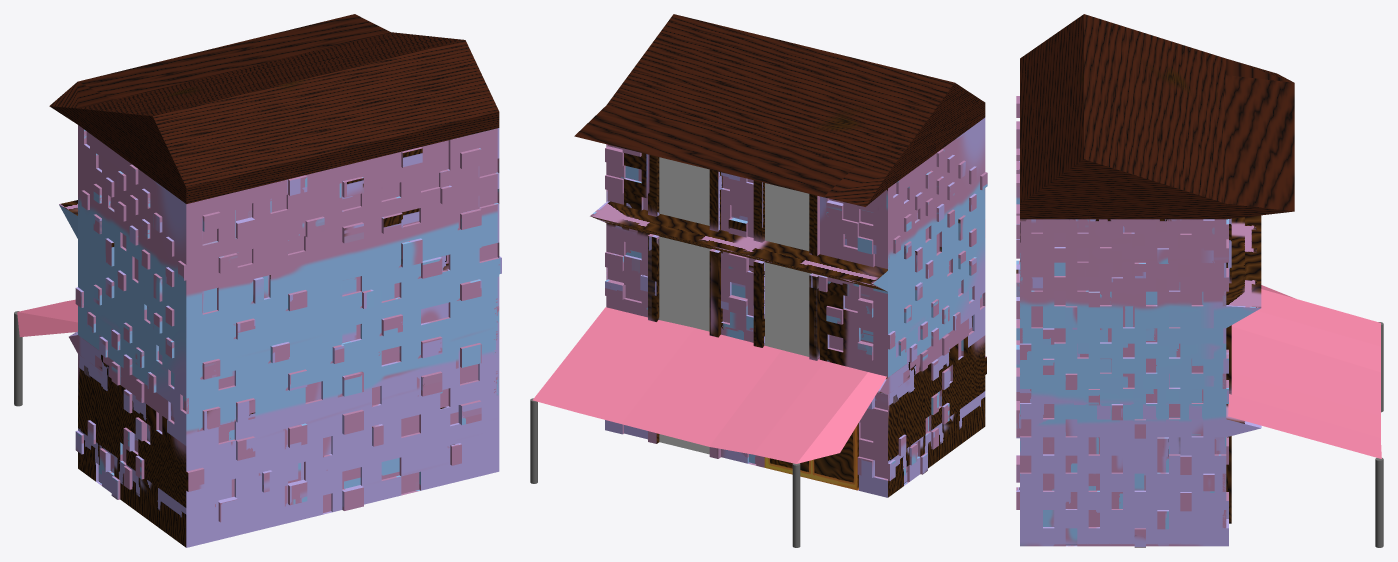
File: 3StoryHome.fbx
3 views of the same model, side by side, from view 1: azimuth 30°, elevation 25°; view 2: azimuth 150°, elevation 25°; view 3: azimuth 270°, elevation 25° (orthographic). The views are drawn at different scales.
Visible parts, largest first — view 1: BaseBuilding, Roof, Overhang.001, Support.002; view 2: BaseBuilding, Roof, Overhang.001, Window.002, Window.003, Window.004, Window.005, Door, Support.002, Support.001; view 3: BaseBuilding, Roof, Overhang.001, Support.001.
Boxes of the visible parts, x1,y1,x2,y2 form: BaseBuilding: [59, 125, 501, 547]; Roof: [49, 14, 499, 203]; Overhang.001: [17, 299, 77, 336]; Support.002: [14, 311, 22, 406]; BaseBuilding: [590, 117, 987, 497]; Roof: [574, 14, 985, 206]; Overhang.001: [532, 307, 886, 463]; Window.002: [659, 236, 711, 331]; Window.003: [765, 262, 810, 356]; Window.004: [659, 157, 709, 225]; Window.005: [765, 183, 809, 251]; Door: [764, 423, 858, 490]; Support.002: [792, 463, 800, 547]; Support.001: [530, 398, 537, 483]; BaseBuilding: [1016, 96, 1261, 547]; Roof: [1020, 14, 1294, 219]; Overhang.001: [1228, 285, 1381, 458]; Support.001: [1375, 458, 1383, 547].
Bounding box in the file's own units: 1019 × 1243 × 1068.
Materials: 6 (3 with a texture image).
